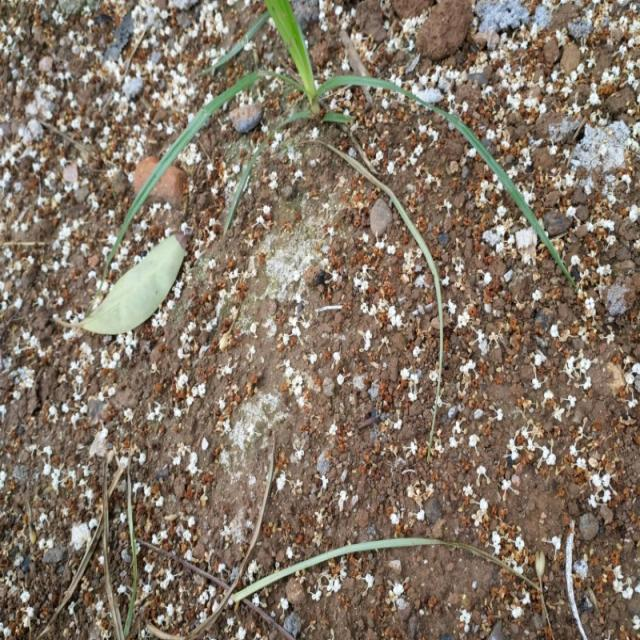sedge: (151, 0, 513, 257)
